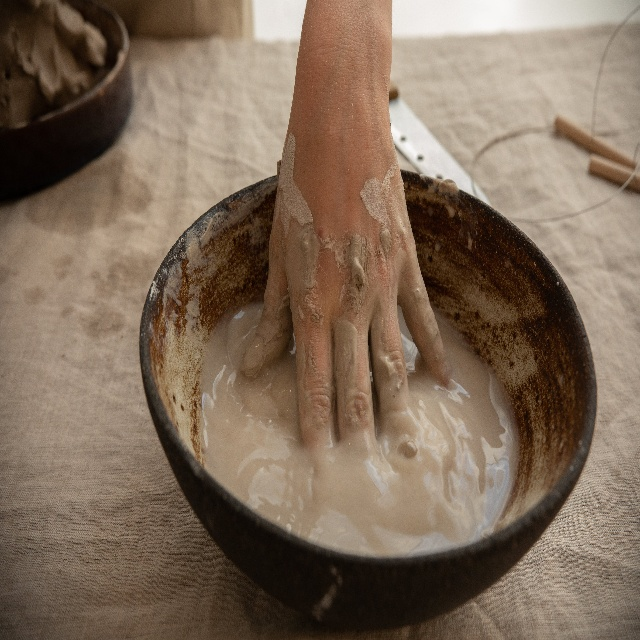Sin_guantes: (245, 148, 453, 456)
